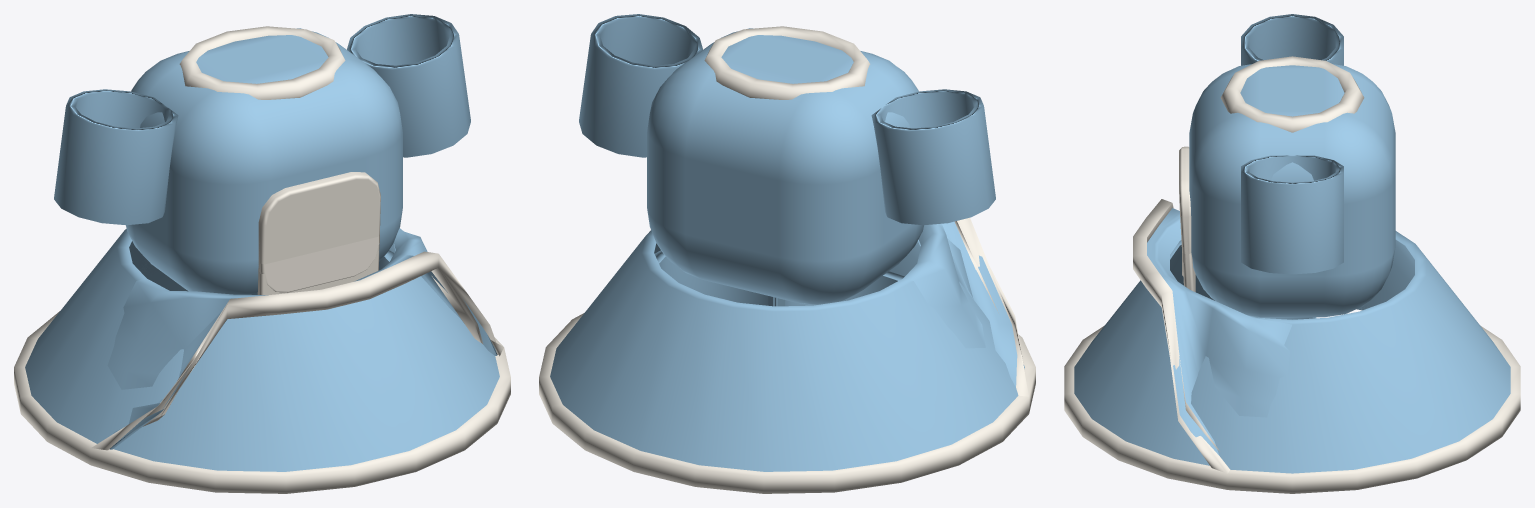
The model's file is adventure_dress.glb.
The picture shows the model from 3 angles, left to right: view 1: azimuth 30°, elevation 25°; view 2: azimuth 150°, elevation 25°; view 3: azimuth 270°, elevation 25°; orthographic projection. The views are drawn at different scales.
Visible parts, largest first — view 1: adventure_dress_Body, adventure_dress_Body_sit, adventure_dress_ArmL, adventure_dress_ArmR; view 2: adventure_dress_Body, adventure_dress_Body_sit, adventure_dress_ArmL, adventure_dress_ArmR, adventure_dress_LegR_sit, adventure_dress_LegL_sit; view 3: adventure_dress_Body, adventure_dress_Body_sit, adventure_dress_ArmR, adventure_dress_ArmL.
Part boxes in pixels (x1=…): adventure_dress_Body: x1=14, y1=26, x2=510, y2=493; adventure_dress_Body_sit: x1=91, y1=59, x2=503, y2=450; adventure_dress_ArmL: x1=54, y1=89, x2=178, y2=225; adventure_dress_ArmR: x1=347, y1=14, x2=470, y2=157; adventure_dress_Body: x1=539, y1=26, x2=1035, y2=493; adventure_dress_Body_sit: x1=647, y1=59, x2=1028, y2=396; adventure_dress_ArmL: x1=871, y1=89, x2=995, y2=225; adventure_dress_ArmR: x1=579, y1=14, x2=702, y2=157; adventure_dress_LegR_sit: x1=654, y1=250, x2=777, y2=306; adventure_dress_LegL_sit: x1=773, y1=271, x2=904, y2=306; adventure_dress_Body: x1=1064, y1=56, x2=1520, y2=493; adventure_dress_Body_sit: x1=1133, y1=115, x2=1414, y2=473; adventure_dress_ArmR: x1=1241, y1=155, x2=1343, y2=274; adventure_dress_ArmL: x1=1241, y1=14, x2=1343, y2=65.
Size of the model in its own units: 0.648 by 0.5289 by 0.6414.
